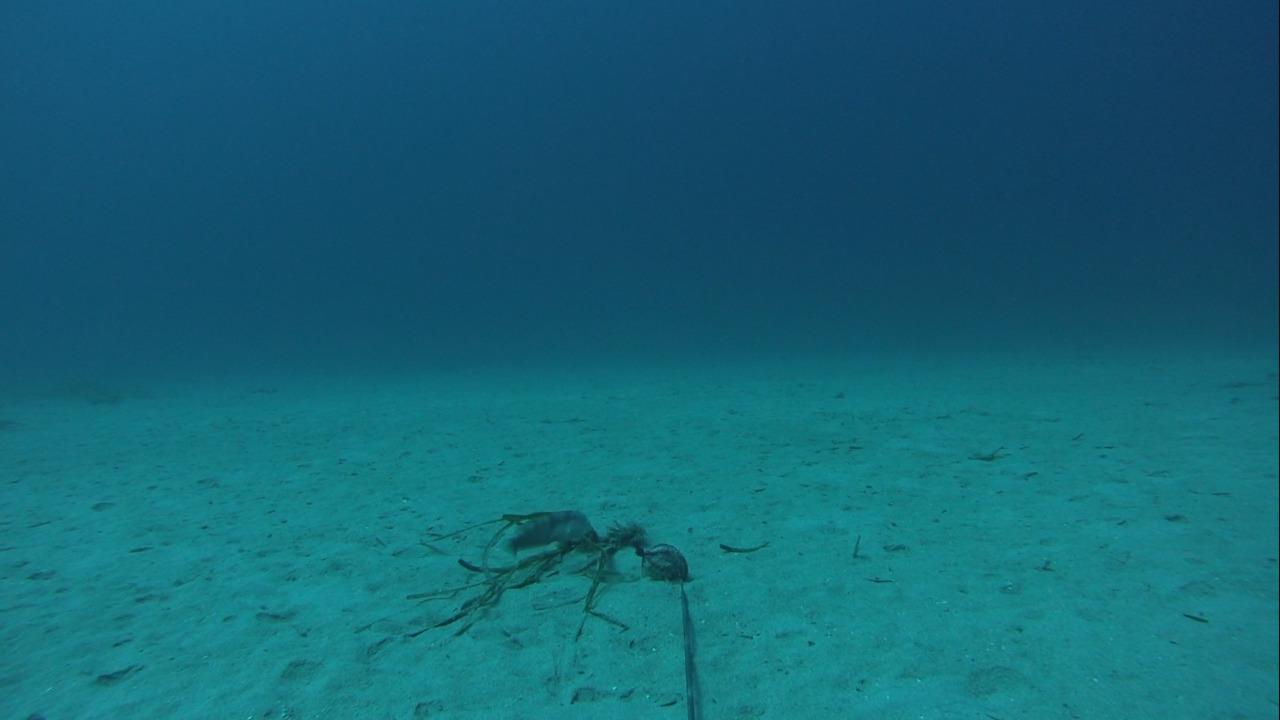raor: (499, 506, 602, 563)
